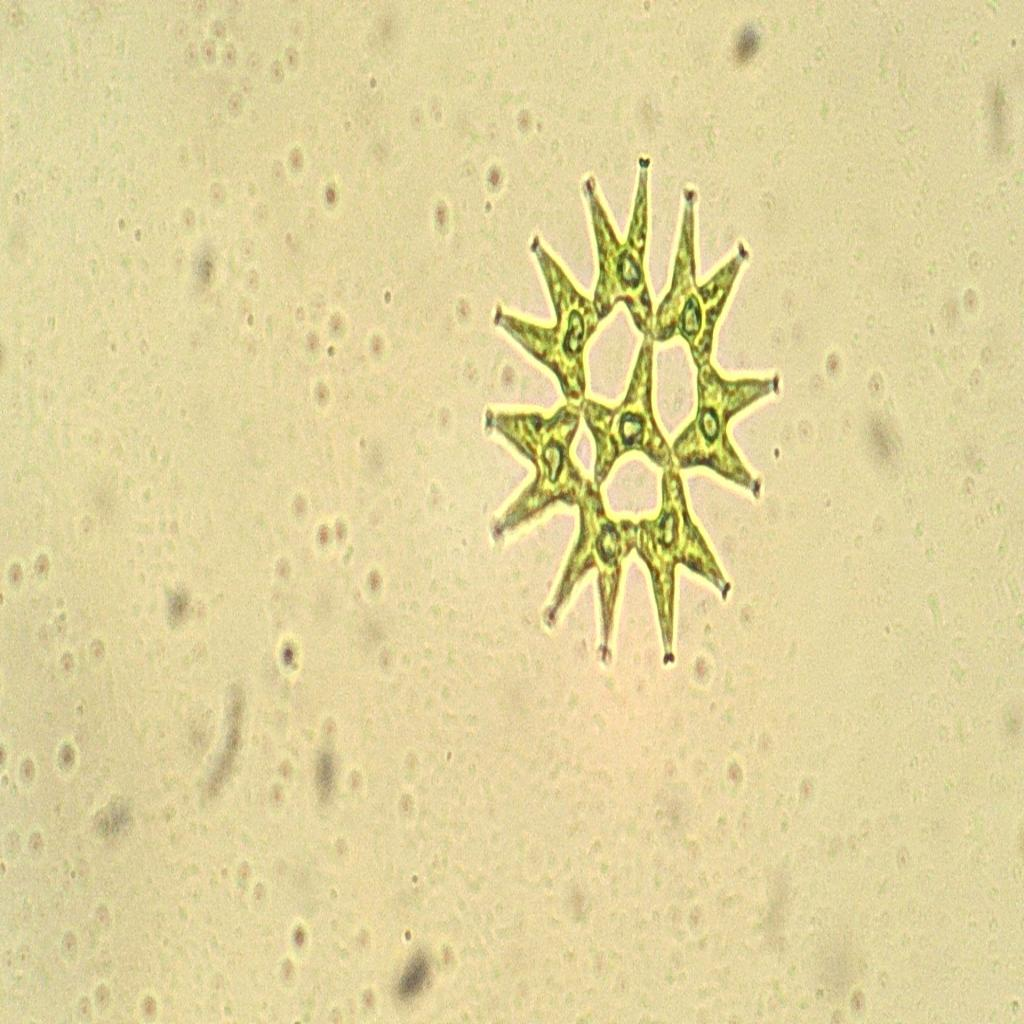Pediastrum_CTH: (480, 124, 788, 706)
